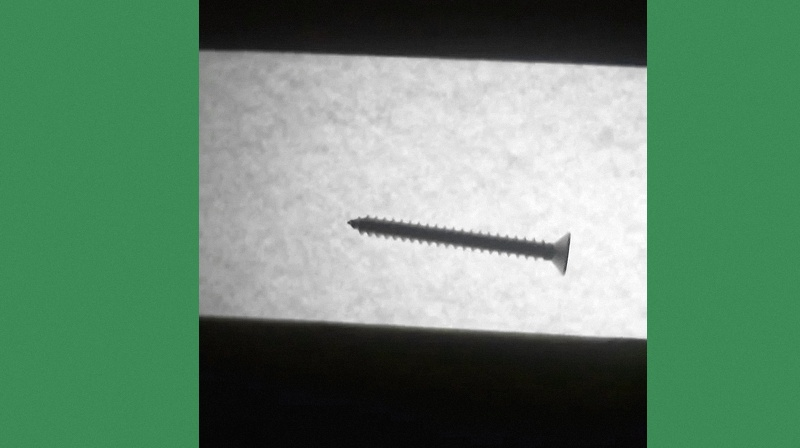S002: (343, 212, 574, 277)
